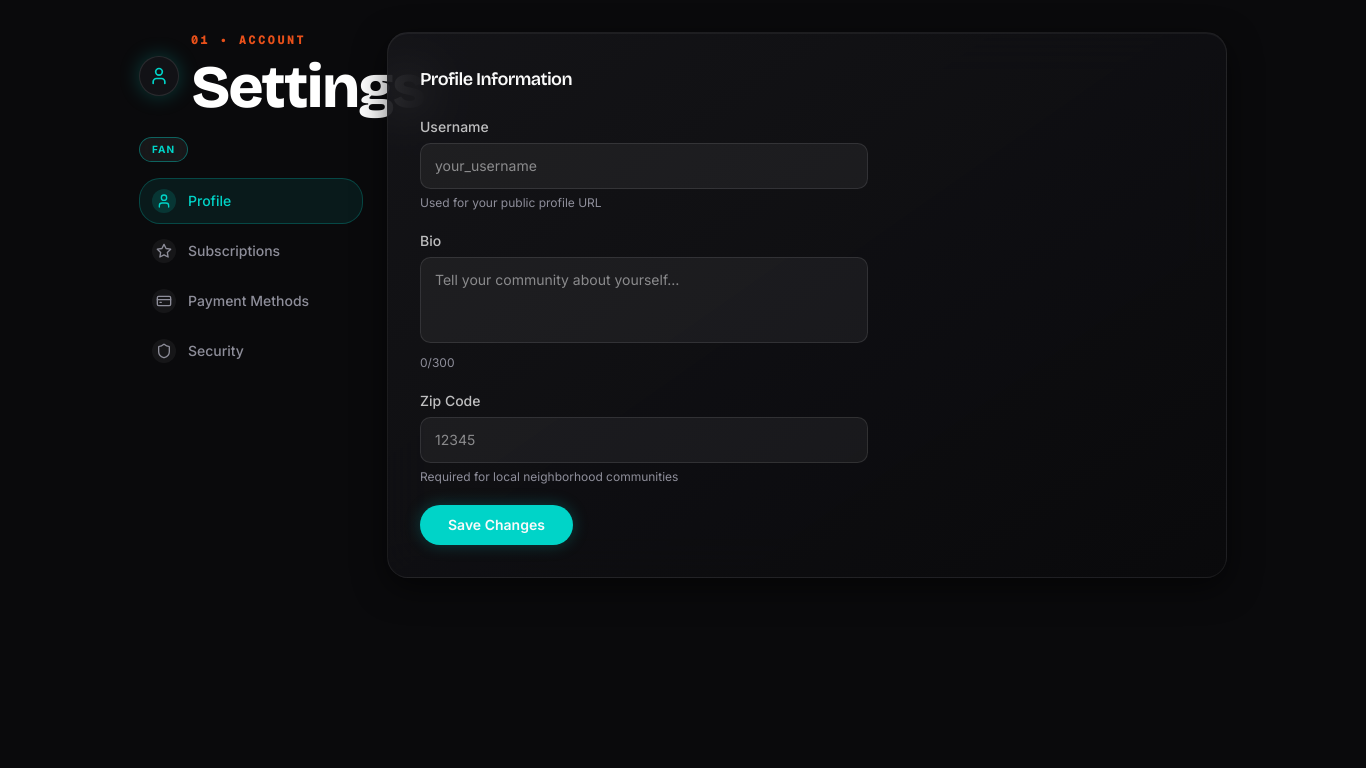
Scenario: SettingsView Payment Tab & Add Card Modal › validates card inputs and successfully adds a card
Click the button "Payment Methods" at (251, 301), box x1=139 y1=278 x2=363 y2=324
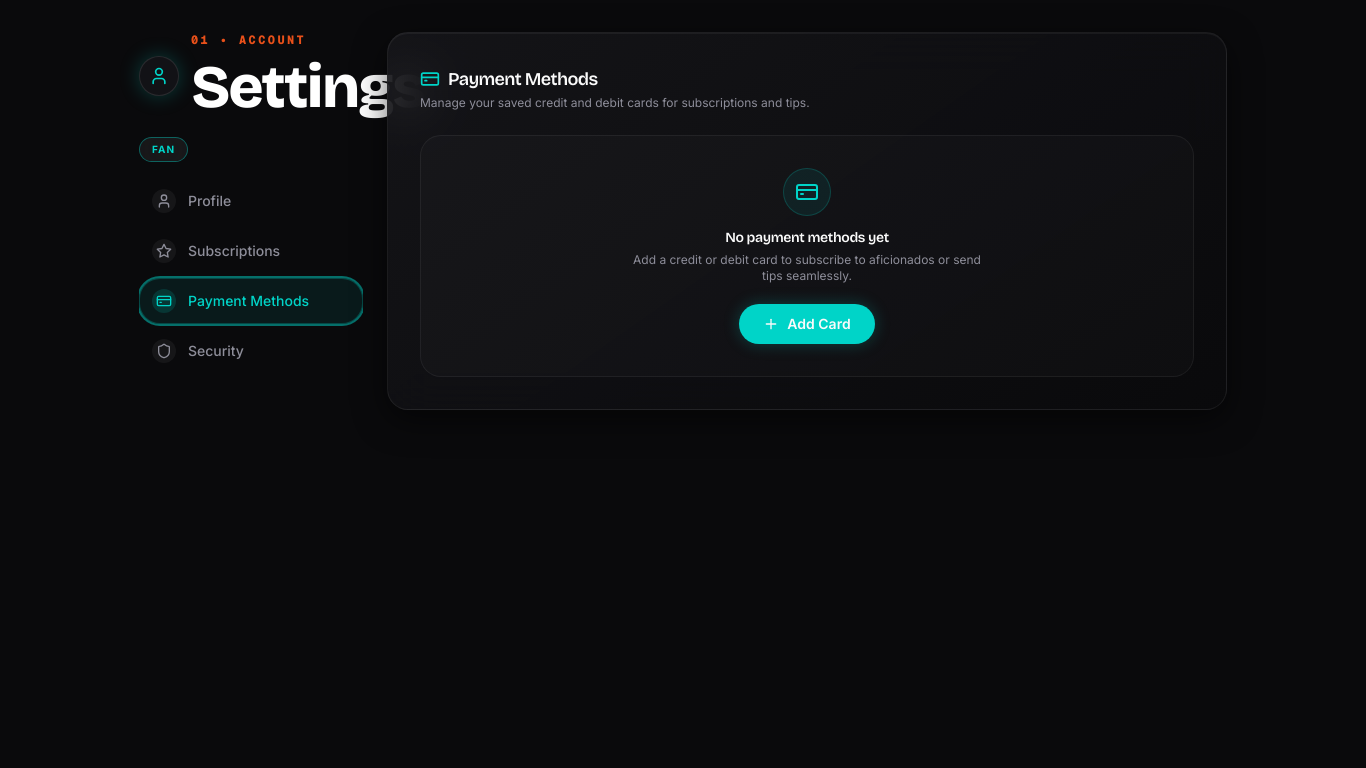
Click the button "Add Card" at (807, 324), box x1=739 y1=304 x2=875 y2=344
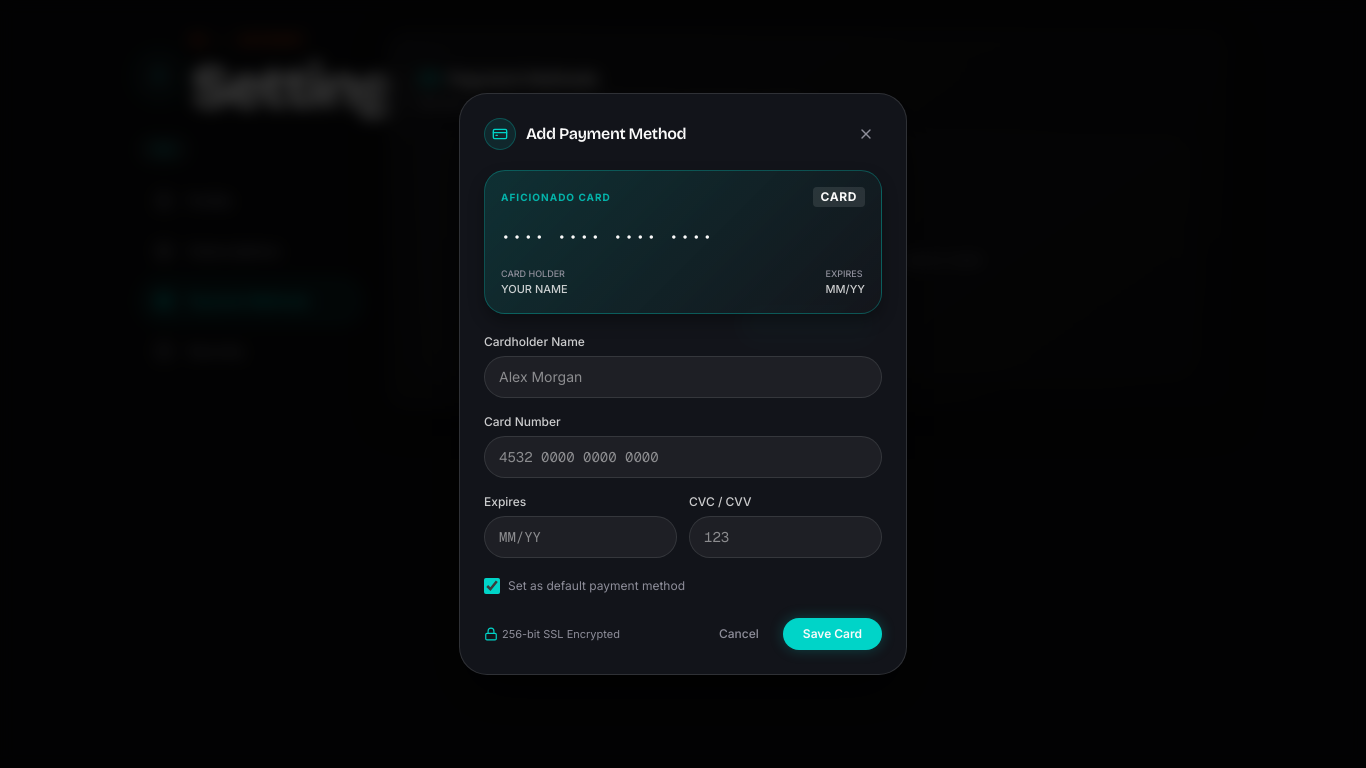
# Fill out form
Type "Jane Doe" into the field with placeholder "Alex Morgan" at (683, 377), box x1=484 y1=356 x2=882 y2=398
Type "4242424242424242" into the field with placeholder "4532 0000 0000 0000" at (683, 457), box x1=484 y1=436 x2=882 y2=478
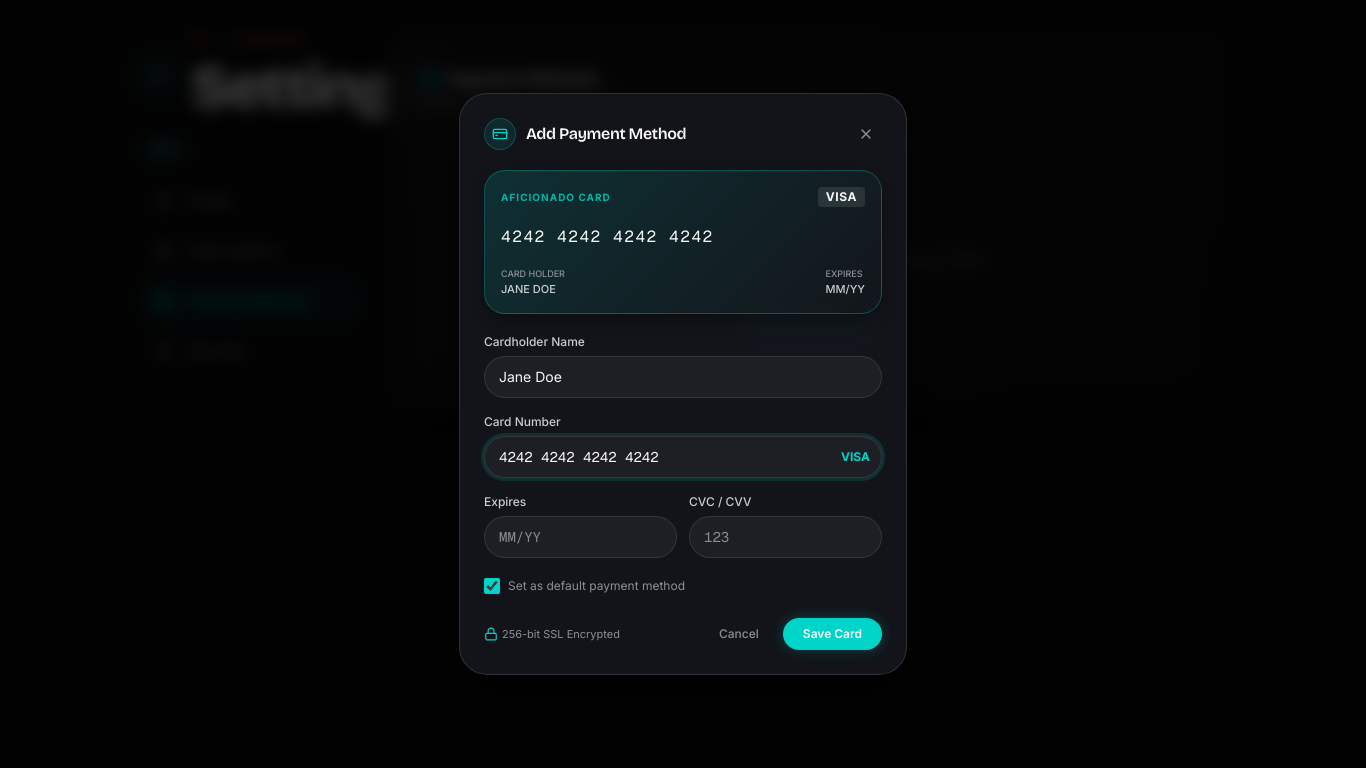
Type "12/28" into the field with placeholder "MM/YY" at (580, 537), box x1=484 y1=516 x2=677 y2=558
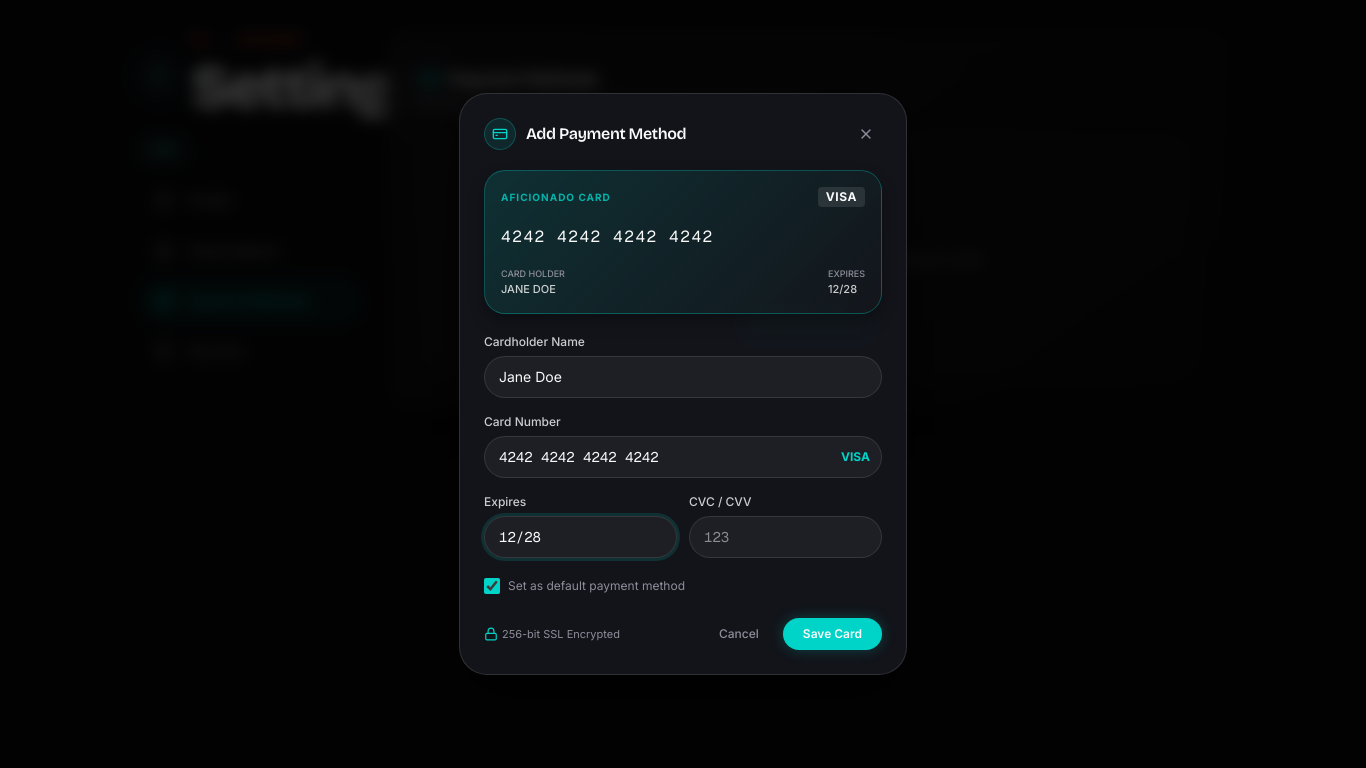
Type "888" into the field with placeholder "123" at (786, 537), box x1=689 y1=516 x2=882 y2=558
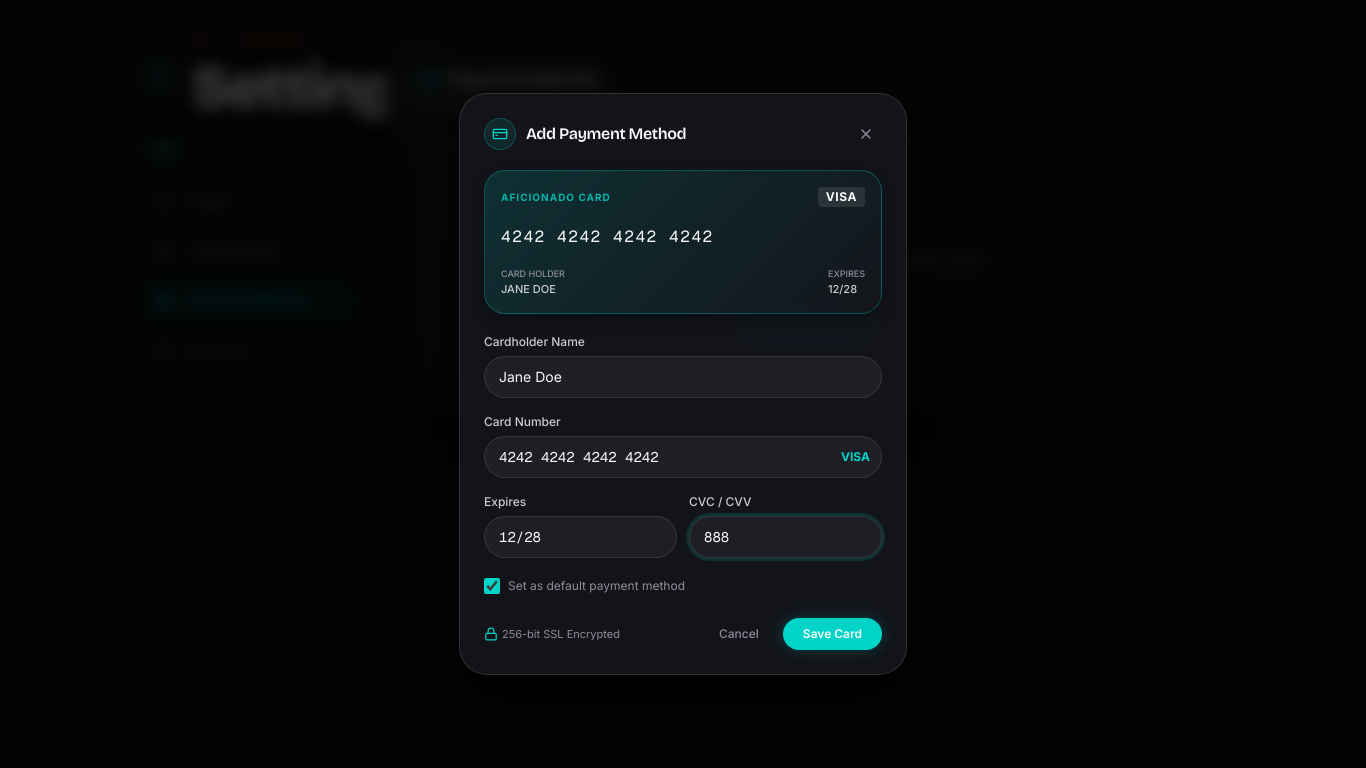
# Submit form
Click the button "Save Card" at (832, 634), box x1=783 y1=618 x2=882 y2=650
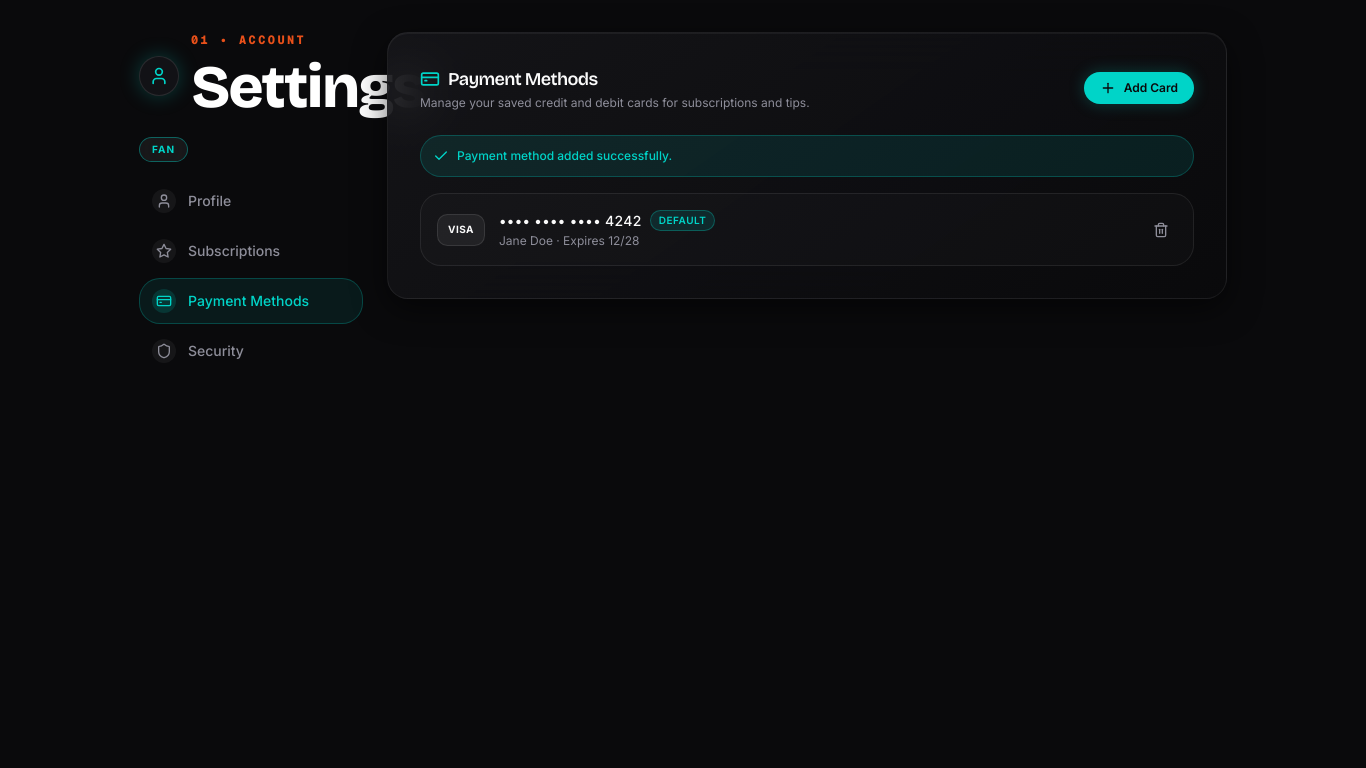
Expected: the text "Payment method added successfully." is shown, x1=420 y1=135 x2=1194 y2=177
Expected: the text "Jane Doe · Expires 12/28" is shown, x1=499 y1=233 x2=639 y2=248
Expected: the text "•••• •••• •••• 4242" is shown, x1=499 y1=210 x2=642 y2=230
